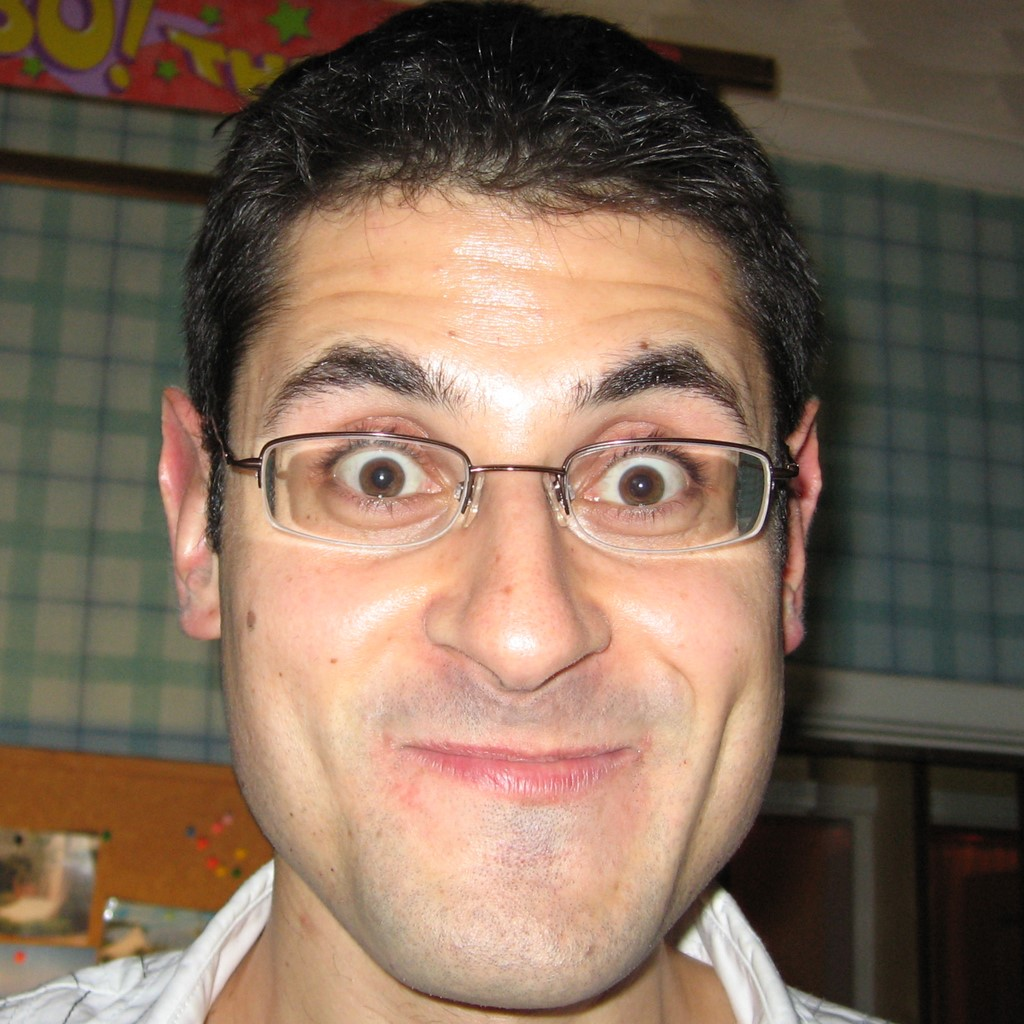sin_mascara: (213, 111, 779, 993)
